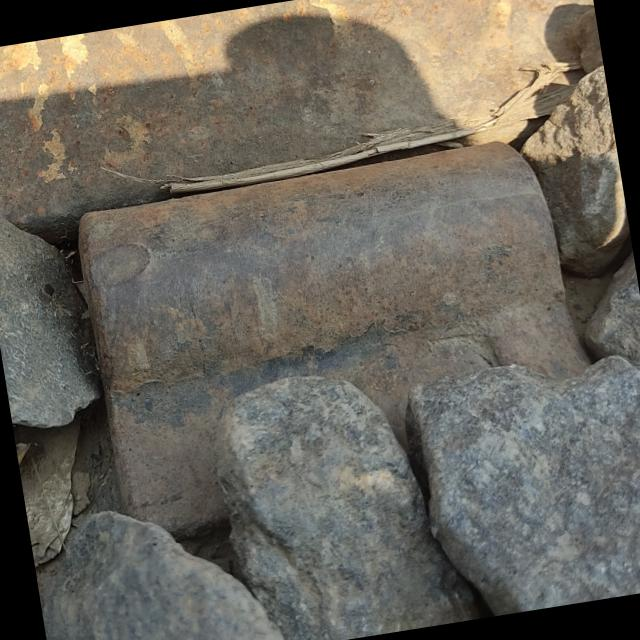track_bolt_missing: (63, 128, 578, 408)
